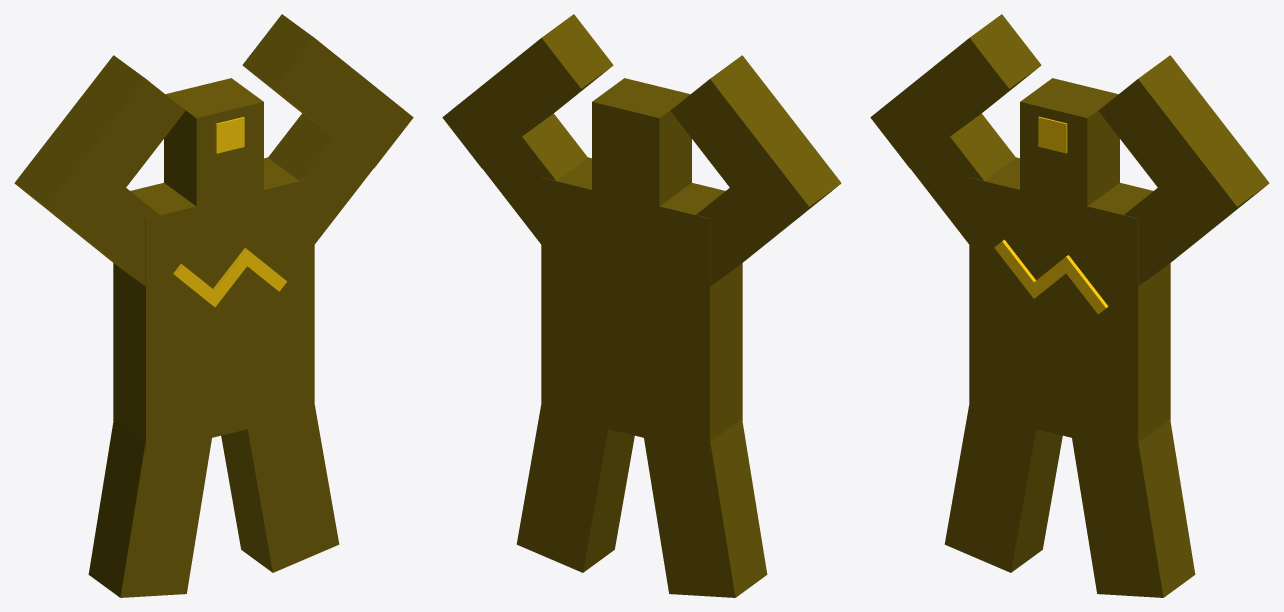
File: ElectricGiant.fbx
3 views of the same model, side by side, from view 1: azimuth 30°, elevation 25°; view 2: azimuth 150°, elevation 25°; view 3: azimuth 330°, elevation 25° (orthographic).
Visible parts, largest first — view 1: Cube.001, Cube.010, Cube.017; view 2: Cube.001; view 3: Cube.001, Cube.010, Cube.017.
Boxes of the visible parts, box(x1,y1,x2,y2) form: Cube.001: box(14, 14, 413, 597); Cube.010: box(173, 248, 286, 307); Cube.017: box(215, 117, 244, 153); Cube.001: box(442, 14, 841, 597); Cube.001: box(870, 14, 1269, 597); Cube.010: box(994, 239, 1108, 314); Cube.017: box(1038, 116, 1067, 153).
Bounding box in the file's own units: 131 × 179 × 21.5.
